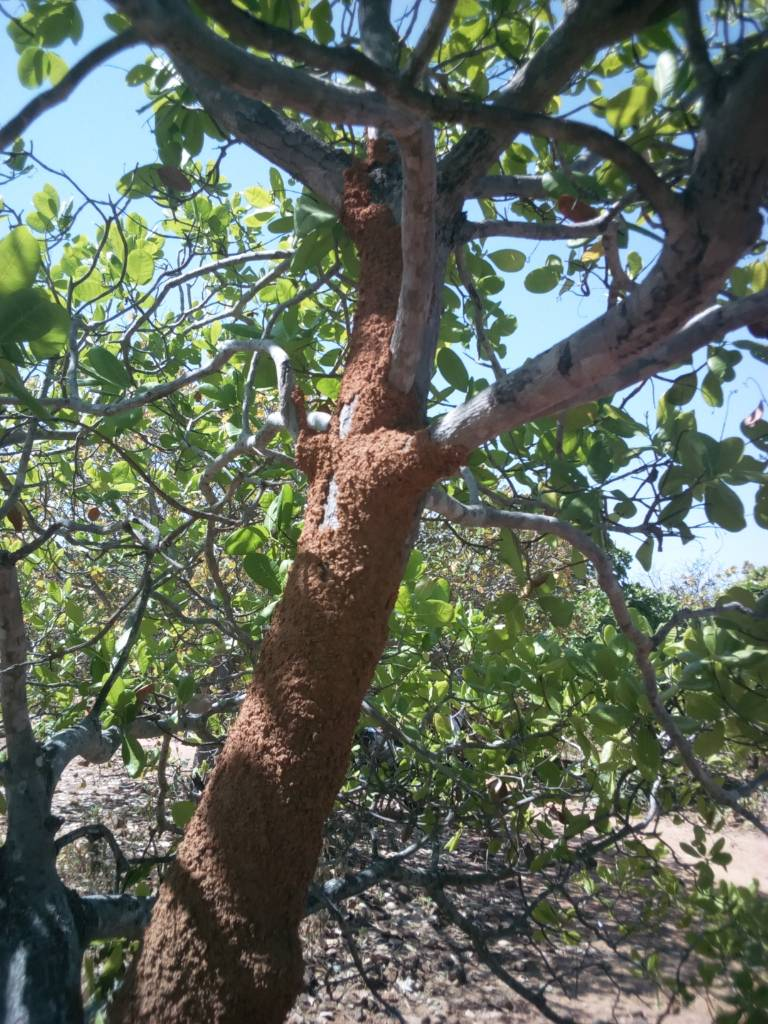Termites: (149, 439, 430, 1002), (341, 182, 402, 430)
